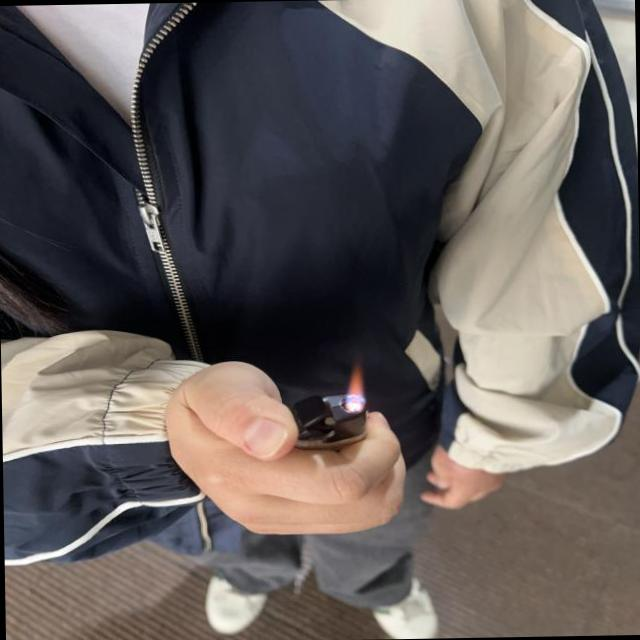Fire: (345, 366, 364, 399)
